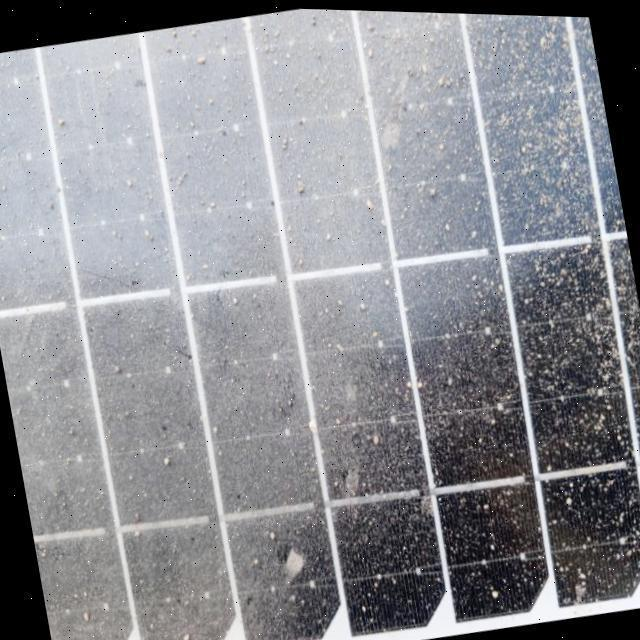Surface Contaminant: (0, 10, 640, 640)
